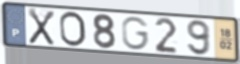2: (153, 16, 181, 55)
8: (91, 12, 118, 50)
9: (185, 19, 211, 58)
G: (120, 15, 151, 52)
O: (58, 10, 88, 48)
X: (27, 7, 57, 47)
